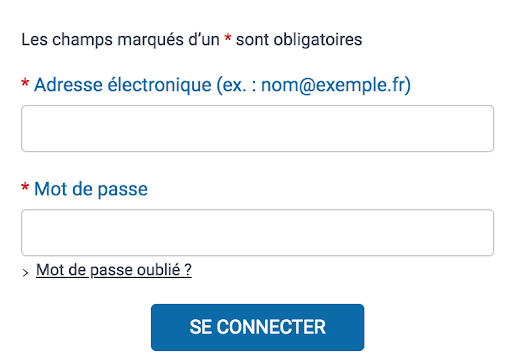button: (149, 303, 366, 352)
field: (20, 208, 495, 258), (20, 104, 495, 153)
